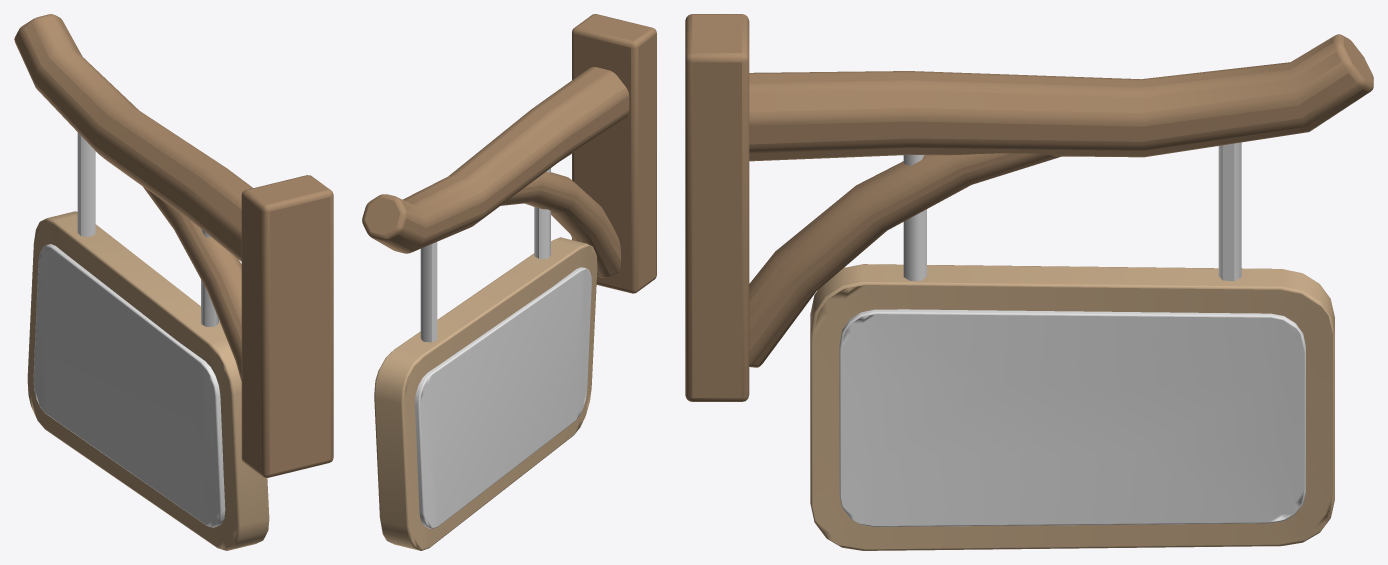
The model's file is prop_sign_hanging_11.glb.
The picture shows the model from 3 angles, left to right: view 1: azimuth 30°, elevation 25°; view 2: azimuth 150°, elevation 25°; view 3: azimuth 270°, elevation 25°; orthographic projection. The views are drawn at different scales.
Parts seen in each view (by area): view 1: prop_sign_hanging_11_timber, prop_sign_hanging_11_pv_signboard, prop_sign_hanging_11_plank, prop_sign_hanging_11_pv_rope; view 2: prop_sign_hanging_11_timber, prop_sign_hanging_11_pv_signboard, prop_sign_hanging_11_plank, prop_sign_hanging_11_pv_rope; view 3: prop_sign_hanging_11_pv_signboard, prop_sign_hanging_11_timber, prop_sign_hanging_11_plank, prop_sign_hanging_11_pv_rope.
Part boxes in pixels (box(x1,y1,x2,y2)): prop_sign_hanging_11_timber: box(14, 14, 333, 477); prop_sign_hanging_11_pv_signboard: box(33, 244, 225, 527); prop_sign_hanging_11_plank: box(27, 211, 269, 550); prop_sign_hanging_11_pv_rope: box(77, 132, 218, 326); prop_sign_hanging_11_timber: box(362, 14, 656, 293); prop_sign_hanging_11_pv_signboard: box(415, 267, 591, 528); prop_sign_hanging_11_plank: box(374, 237, 597, 550); prop_sign_hanging_11_pv_rope: box(420, 168, 550, 342); prop_sign_hanging_11_pv_signboard: box(839, 309, 1305, 526); prop_sign_hanging_11_timber: box(685, 14, 1373, 401); prop_sign_hanging_11_plank: box(810, 264, 1334, 550); prop_sign_hanging_11_pv_rope: box(903, 142, 1241, 281).
Size of the model in its own units: 0.18 by 0.96 by 1.18.
